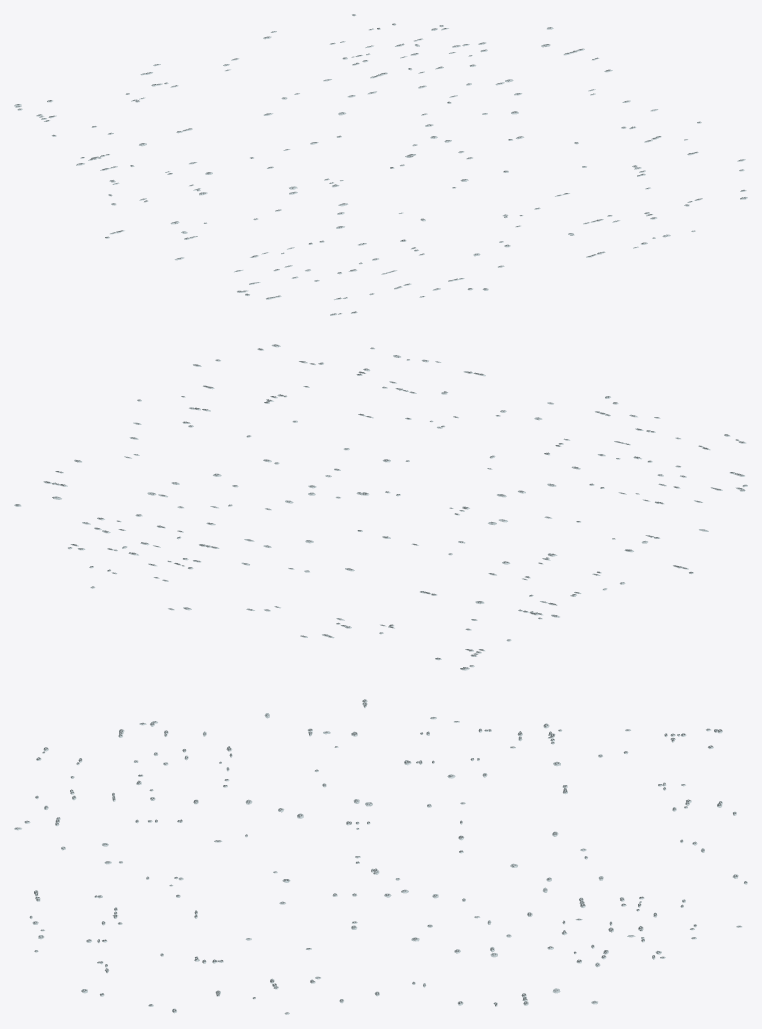
Rendered from snow_accumulation.glb.
The picture shows the model from 3 angles, top to bottom: view 1: azimuth 30°, elevation 25°; view 2: azimuth 150°, elevation 25°; view 3: azimuth 270°, elevation 25°; orthographic projection. The views are drawn at different scales.
Parts seen in each view (by area): view 1: ENV_R5_Snow; view 2: ENV_R5_Snow; view 3: ENV_R5_Snow.
Boxes of the visible parts, x1,y1,x2,y2 form: ENV_R5_Snow: (14,14,747,315); ENV_R5_Snow: (14,344,747,670); ENV_R5_Snow: (14,699,747,1014).
Size of the model in its own units: 360 by 3.67 by 350.
1 material, 1 textured.
